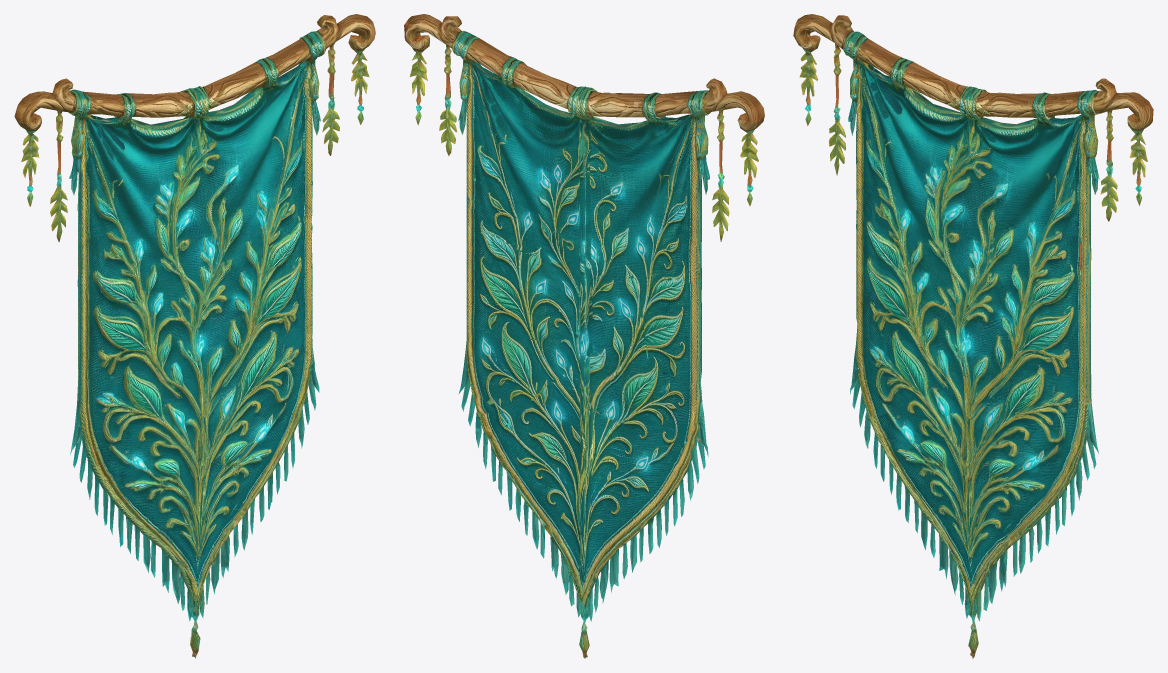
Rendered from decorative-banner.glb.
The picture shows the model from 3 angles, left to right: view 1: azimuth 30°, elevation 25°; view 2: azimuth 150°, elevation 25°; view 3: azimuth 330°, elevation 25°; orthographic projection.
Size of the model in its own units: 1.16 by 1.9 by 0.0959.
1 material, 1 textured.
